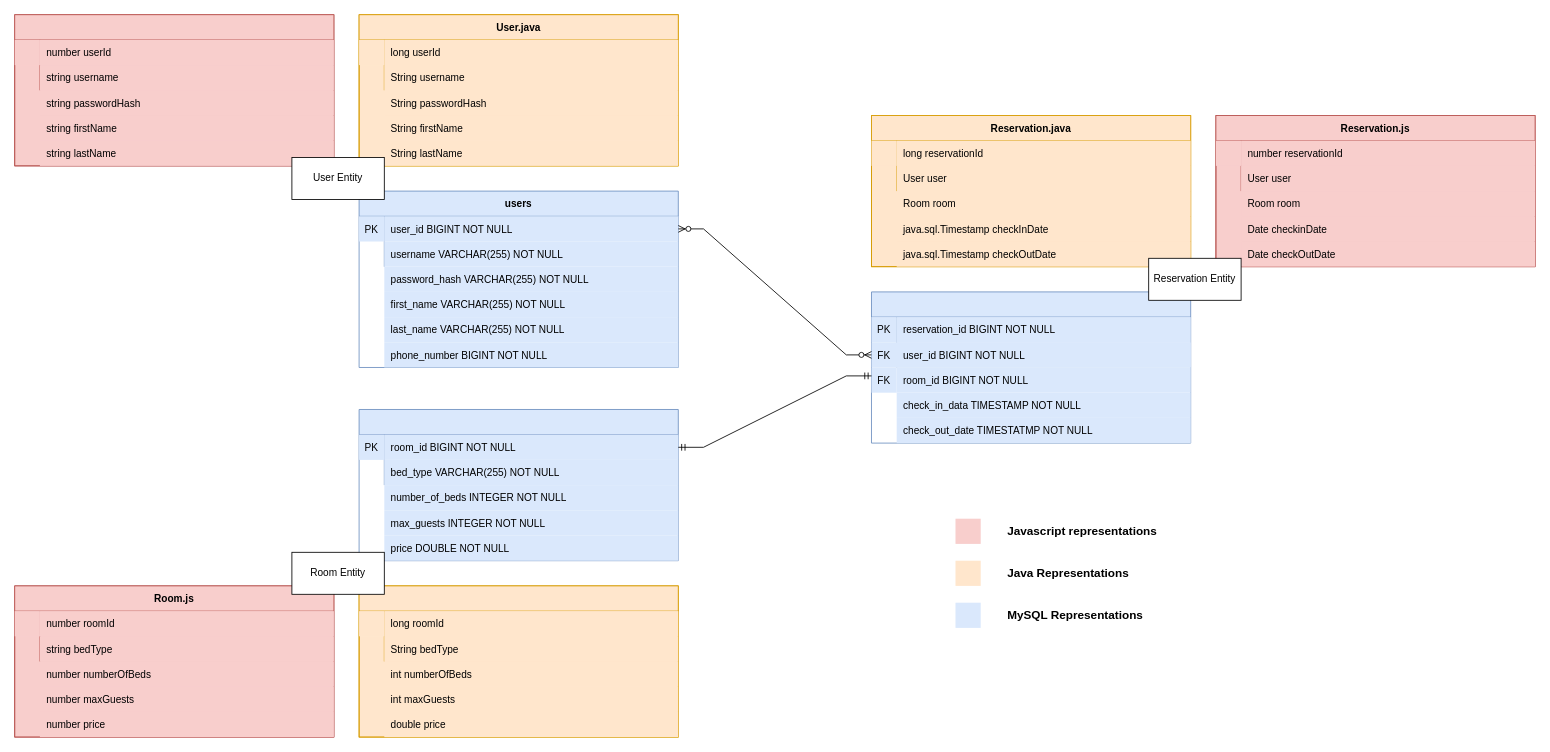
This 1550x752 diagram has some shape labels left out. Here are the shapes that lost their labels. From the top down, the box of each, then its label:
(14, 14, 334, 166): User.js
(871, 291, 1191, 443): reservations
(358, 409, 678, 561): rooms
(358, 585, 678, 737): Room.java
